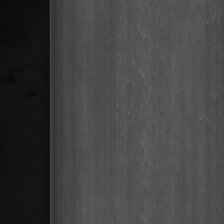silk_spot: (121, 6, 184, 193)
